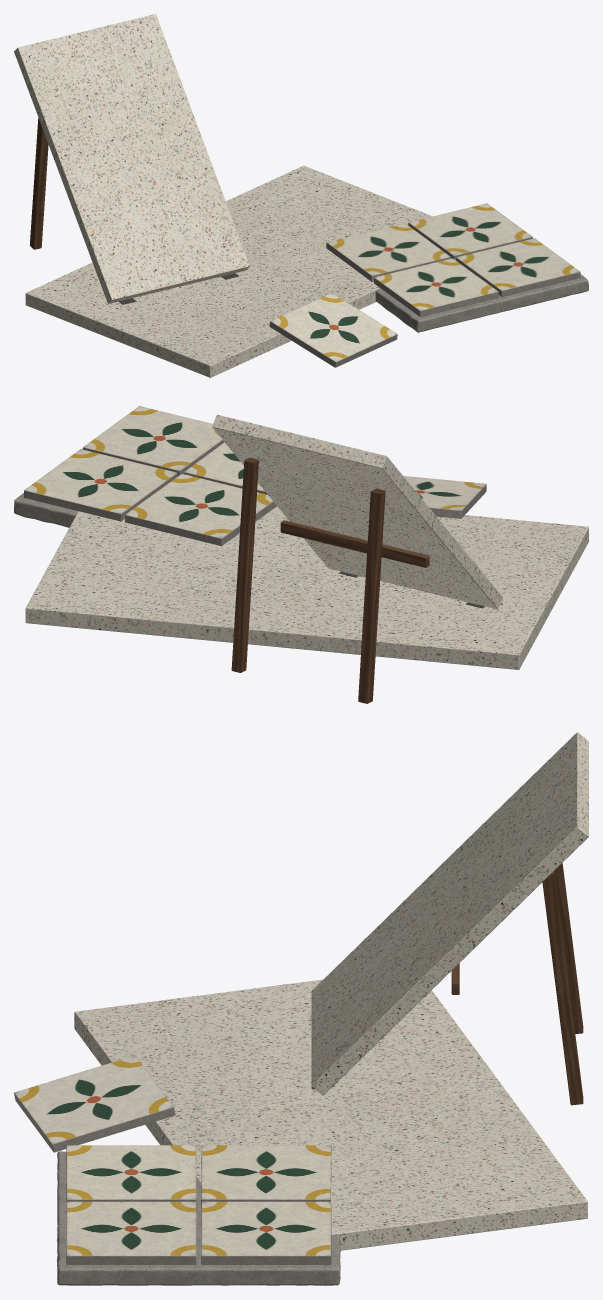
File: terrazzo.glb
3 renders of one model, top to bottom at view 1: azimuth 30°, elevation 25°; view 2: azimuth 150°, elevation 25°; view 3: azimuth 270°, elevation 25°, orthographic. The views are drawn at different scales.
Visible parts, largest first — view 1: TerrazzoSlab_leaning, TerrazzoSlab, CementTile_5_lifted, CementTile_3, CementTile_4, CementTile_1, CementTile_2, ScreedPad, EaselLeg_1; view 2: TerrazzoSlab, TerrazzoSlab_leaning, CementTile_2, CementTile_1, CementTile_4, EaselLeg_1, EaselLeg_2, CementTile_5_lifted, EaselRail, CementTile_3, ScreedPad; view 3: TerrazzoSlab, TerrazzoSlab_leaning, CementTile_5_lifted, CementTile_2, CementTile_4, ScreedPad, CementTile_3, CementTile_1, EaselLeg_2, EaselLeg_1.
Part boxes in pixels (left/top/right/bottom): TerrazzoSlab_leaning: left=14, top=14, right=249, bottom=303; TerrazzoSlab: left=25, top=165, right=432, bottom=377; CementTile_5_lifted: left=269, top=293, right=397, bottom=367; CementTile_3: left=374, top=258, right=498, bottom=316; CementTile_4: left=456, top=238, right=580, bottom=296; CementTile_1: left=326, top=223, right=450, bottom=281; CementTile_2: left=408, top=203, right=532, bottom=260; ScreedPad: left=375, top=274, right=588, bottom=332; EaselLeg_1: left=29, top=118, right=48, bottom=249; TerrazzoSlab: left=25, top=506, right=588, bottom=669; TerrazzoSlab_leaning: left=212, top=414, right=502, bottom=609; CementTile_2: left=24, top=449, right=177, bottom=521; CementTile_1: left=125, top=473, right=276, bottom=545; CementTile_4: left=82, top=406, right=224, bottom=476; EaselLeg_1: left=358, top=488, right=385, bottom=703; EaselLeg_2: left=231, top=457, right=258, bottom=672; CementTile_5_lifted: left=403, top=476, right=486, bottom=518; EaselRail: left=280, top=520, right=429, bottom=567; CementTile_3: left=184, top=442, right=267, bottom=494; ScreedPad: left=14, top=493, right=78, bottom=527; TerrazzoSlab: left=74, top=979, right=587, bottom=1250; TerrazzoSlab_leaning: left=311, top=732, right=588, bottom=1095; CementTile_5_lifted: left=14, top=1055, right=175, bottom=1152; CementTile_2: left=201, top=1201, right=331, bottom=1264; CementTile_4: left=66, top=1201, right=196, bottom=1264; ScreedPad: left=57, top=1151, right=340, bottom=1285; CementTile_3: left=66, top=1145, right=196, bottom=1201; CementTile_1: left=201, top=1145, right=331, bottom=1207; EaselLeg_2: left=542, top=871, right=583, bottom=1105; EaselLeg_1: left=554, top=863, right=583, bottom=1033.
Size of the model in its own units: 2.18 by 0.9734 by 1.76.
6 materials, 6 textured.
